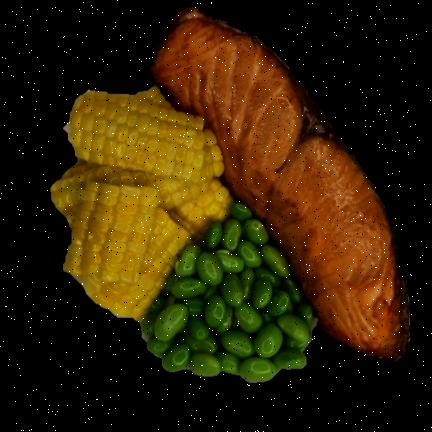corn: (51, 88, 236, 322)
fish: (152, 10, 411, 358)
peas: (142, 203, 316, 385)
